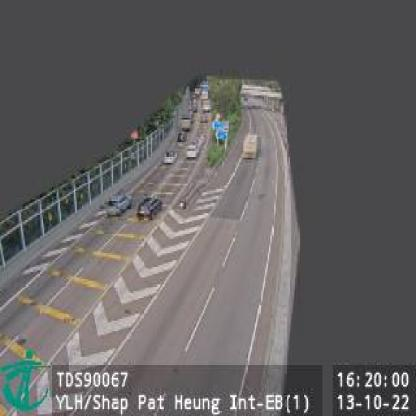Bus: (180, 113, 193, 131)
Car: (106, 192, 134, 218), (137, 197, 163, 220), (187, 144, 200, 160), (164, 150, 177, 164)
Truck: (243, 132, 260, 160)
